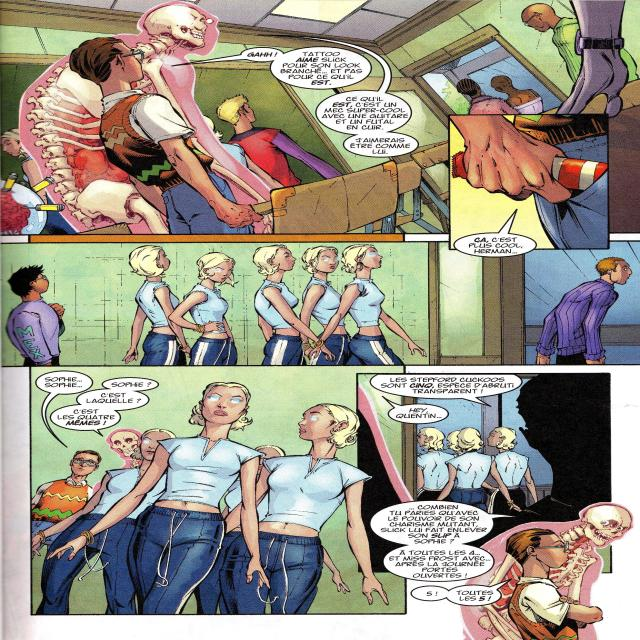comic_panel: (0, 0, 640, 237), (28, 365, 407, 616), (0, 240, 640, 367), (355, 371, 614, 574), (364, 497, 640, 640), (447, 113, 610, 258)
